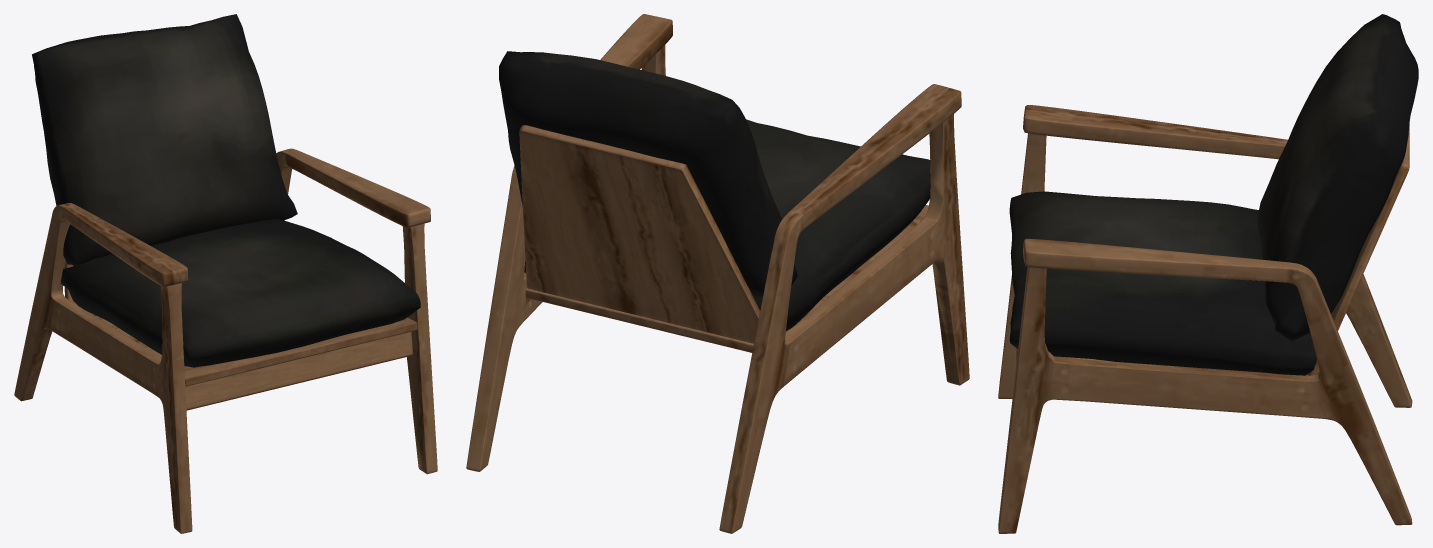
File: modern_arm_chair_01.glb
3 renders of one model, left to right at view 1: azimuth 30°, elevation 25°; view 2: azimuth 150°, elevation 25°; view 3: azimuth 270°, elevation 25°, orthographic. The views are drawn at different scales.
Parts seen in each view (by area): view 1: modern_arm_chair_01; view 2: modern_arm_chair_01; view 3: modern_arm_chair_01.
Part boxes in pixels (x1=…): modern_arm_chair_01: x1=14, y1=14, x2=437, y2=533; modern_arm_chair_01: x1=466, y1=14, x2=969, y2=533; modern_arm_chair_01: x1=998, y1=14, x2=1418, y2=533.
Size of the model in its own units: 0.8203 by 1.02 by 0.9865.
Materials: 2 (2 with a texture image).
